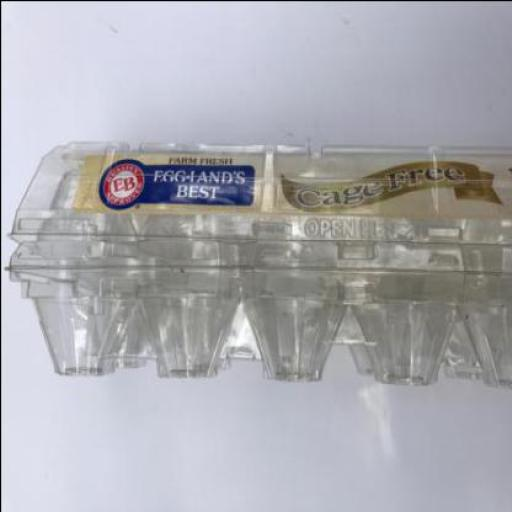plastic: (2, 137, 511, 376)
